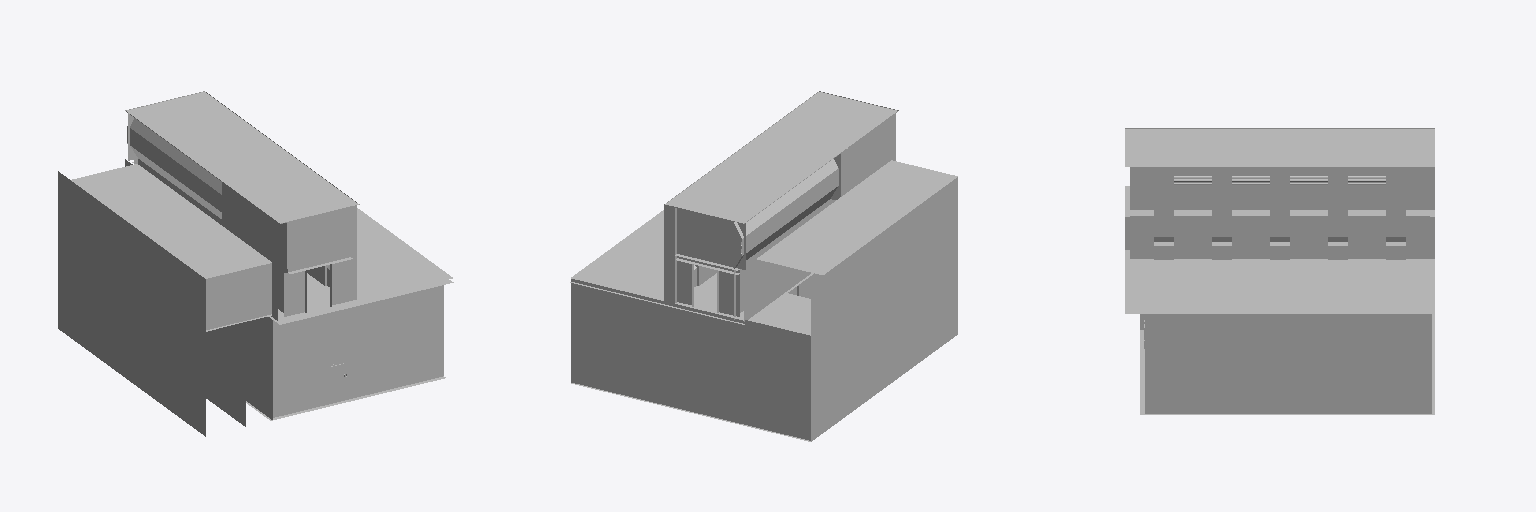
The model's file is LC_cont2_012.obj.
The picture shows the model from 3 angles: view 1: azimuth 30°, elevation 25°; view 2: azimuth 150°, elevation 25°; view 3: azimuth 270°, elevation 25°; orthographic projection.
Visible parts, largest first — view 1: room012; view 2: room012; view 3: room012.
Part boxes in pixels (left/top/right/bottom): room012: left=58, top=91, right=453, bottom=436; room012: left=570, top=91, right=957, bottom=441; room012: left=1125, top=128, right=1434, bottom=414.
Size of the model in its own units: 460 by 382 by 512.